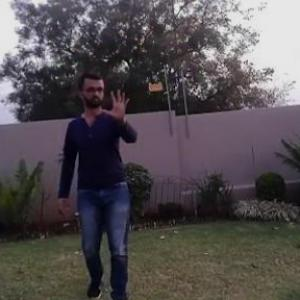follow_hand: (101, 84, 131, 123)
